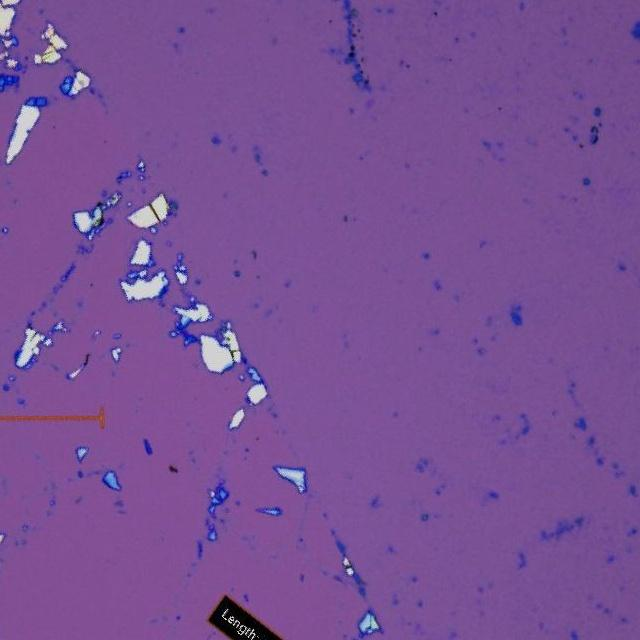monolayer-eWW4: (114, 498, 124, 508), (76, 496, 82, 504)
